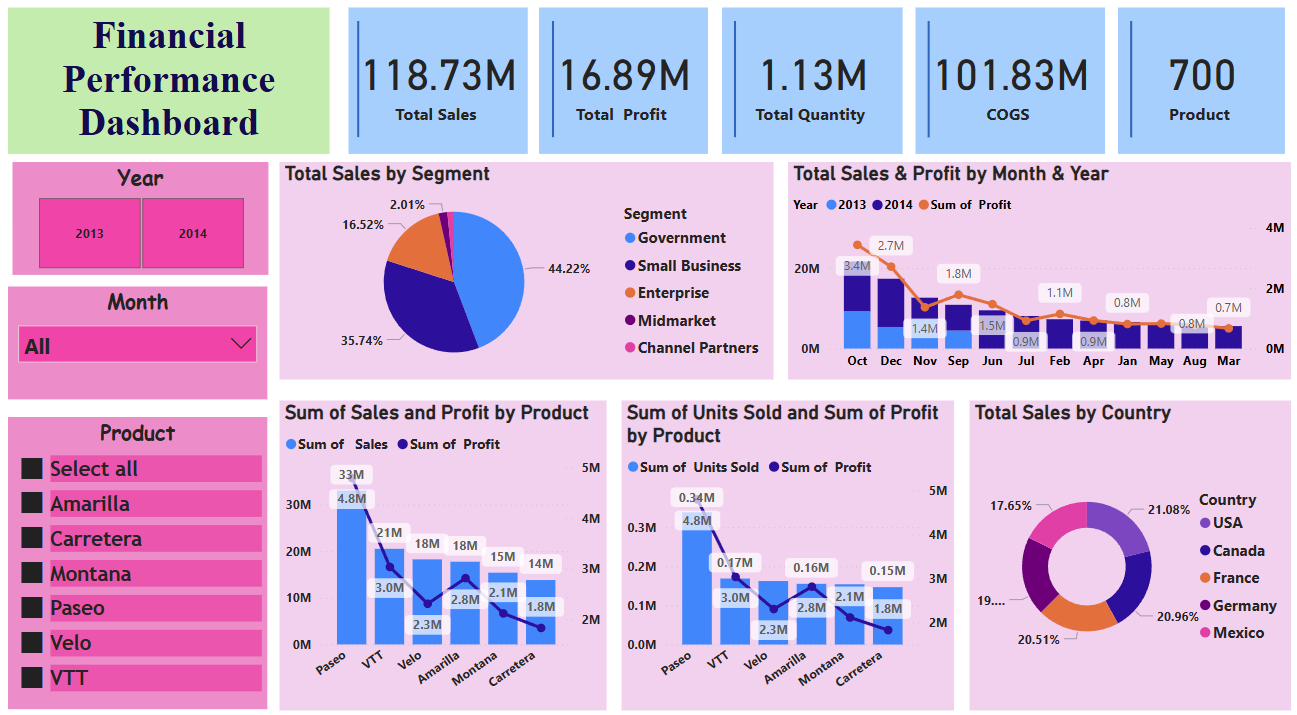

The page's visual inventory and layout, read from the dashboard file:
{"tool":"powerbi","page":{"name":"Page 1","canvas":[1280,720],"ordinal":0},"visuals":[{"type":"card","title":"Total Sales","fields":{"Values":["Sum(financial_data (2) cleaned.  Sales )"]},"box":[345.8,18.6,174.6,142.4],"z":0},{"type":"card","fields":{"Values":["Sum(financial_data (2) cleaned. Profit )"]},"box":[532.2,18.6,164.4,142.4],"z":1000},{"type":"card","fields":{"Values":["Sum(financial_data (2) cleaned. Units Sold )"]},"box":[710.2,18.6,176.3,142.4],"z":2000},{"type":"textbox","box":[32,440,236,185],"z":3000},{"type":"textbox","box":[15.3,18.6,313.6,142.4],"z":4000},{"type":"slicer","title":"Year","fields":{"Values":["financial_data (2) cleaned.Year"]},"box":[18.6,169.5,249.2,110.2],"z":5000},{"type":"slicer","title":"Month","fields":{"Values":["financial_data (2) cleaned. Month Name "]},"box":[15.3,291.5,252.5,110.2],"z":6000},{"type":"slicer","title":"Product","fields":{"Values":["financial_data (2) cleaned. Product "]},"box":[15.3,418.6,252.5,284.7],"z":7000},{"type":"card","fields":{"Values":["Sum(financial_data (2) cleaned. COGS )"]},"box":[898.3,18.6,184.7,142.4],"z":8000},{"type":"card","fields":{"Values":["CountNonNull(financial_data (2) cleaned. Product )"]},"box":[1096.6,18.6,162.7,142.4],"z":9000},{"type":"lineClusteredColumnComboChart","title":"Sum of Sales  and  Profit  by  Product ","fields":{"Category":["financial_data (2) cleaned. Product "],"Y":["Sum(financial_data (2) cleaned.  Sales )"],"Y2":["Sum(financial_data (2) cleaned. Profit )"]},"box":[279.7,401.7,318.6,301.7],"z":10000},{"type":"pieChart","title":"Total Sales  by Segment","fields":{"Y":["Sum(financial_data (2) cleaned.  Sales )"],"Category":["financial_data (2) cleaned.Segment"]},"box":[279.7,169.5,481.4,211.9],"z":10001},{"type":"donutChart","title":"Total Sales  by Country","fields":{"Y":["Sum(financial_data (2) cleaned.  Sales )"],"Category":["financial_data (2) cleaned.Country"]},"box":[950.8,401.7,313.6,301.7],"z":10002},{"type":"lineStackedColumnComboChart","fields":{"Y":["Sum(financial_data (2) cleaned. Units Sold )"],"Category":["financial_data (2) cleaned. Product "],"Y2":["Sum(financial_data (2) cleaned. Profit )"]},"box":[611.9,401.7,323.7,301.7],"z":10003},{"type":"lineStackedColumnComboChart","title":"Total Sales  &  Profit  by  Month & Year","fields":{"Y":["Sum(financial_data (2) cleaned.  Sales )"],"Category":["financial_data (2) cleaned. Month Name "],"Y2":["Sum(financial_data (2) cleaned. Profit )"],"Series":["financial_data (2) cleaned.Year"]},"box":[774.6,169.5,489.8,211.9],"z":10004},{"type":"shape","box":[328.8,32.2,54.2,113.6],"z":10005},{"type":"shape","box":[520.3,32.2,50.8,113.6],"z":10006},{"type":"shape","box":[710.2,32.2,25.4,113.6],"z":10007},{"type":"shape","box":[886.4,32.2,49.2,113.6],"z":10008},{"type":"shape","box":[1084.7,32.2,49.2,113.6],"z":10009}]}

Visuals, with their boxes in screenshot pixels (x1, y1, x2, y2), scaled from the page's 1280x720 canvas onto the 1297x715 screenshot:
"Total Sales" card: <bbox>350, 18, 527, 160</bbox>
card - Sum(financial_data (2) cleaned. Profit ): <bbox>539, 18, 706, 160</bbox>
card - Sum(financial_data (2) cleaned. Units Sold ): <bbox>720, 18, 898, 160</bbox>
textbox: <bbox>32, 437, 272, 621</bbox>
textbox: <bbox>16, 18, 333, 160</bbox>
"Year" slicer: <bbox>19, 168, 271, 278</bbox>
"Month" slicer: <bbox>16, 289, 271, 399</bbox>
"Product" slicer: <bbox>16, 416, 271, 698</bbox>
card - Sum(financial_data (2) cleaned. COGS ): <bbox>910, 18, 1097, 160</bbox>
card - CountNonNull(financial_data (2) cleaned. Product ): <bbox>1111, 18, 1276, 160</bbox>
"Sum of Sales  and  Profit  by  Product " lineClusteredColumnComboChart: <bbox>283, 399, 606, 699</bbox>
"Total Sales  by Segment" pieChart: <bbox>283, 168, 771, 379</bbox>
"Total Sales  by Country" donutChart: <bbox>963, 399, 1281, 699</bbox>
lineStackedColumnComboChart - Sum(financial_data (2) cleaned. Units Sold ) x financial_data (2) cleaned. Product : <bbox>620, 399, 948, 699</bbox>
"Total Sales  &  Profit  by  Month & Year" lineStackedColumnComboChart: <bbox>785, 168, 1281, 379</bbox>
shape: <bbox>333, 32, 388, 145</bbox>
shape: <bbox>527, 32, 579, 145</bbox>
shape: <bbox>720, 32, 745, 145</bbox>
shape: <bbox>898, 32, 948, 145</bbox>
shape: <bbox>1099, 32, 1149, 145</bbox>
